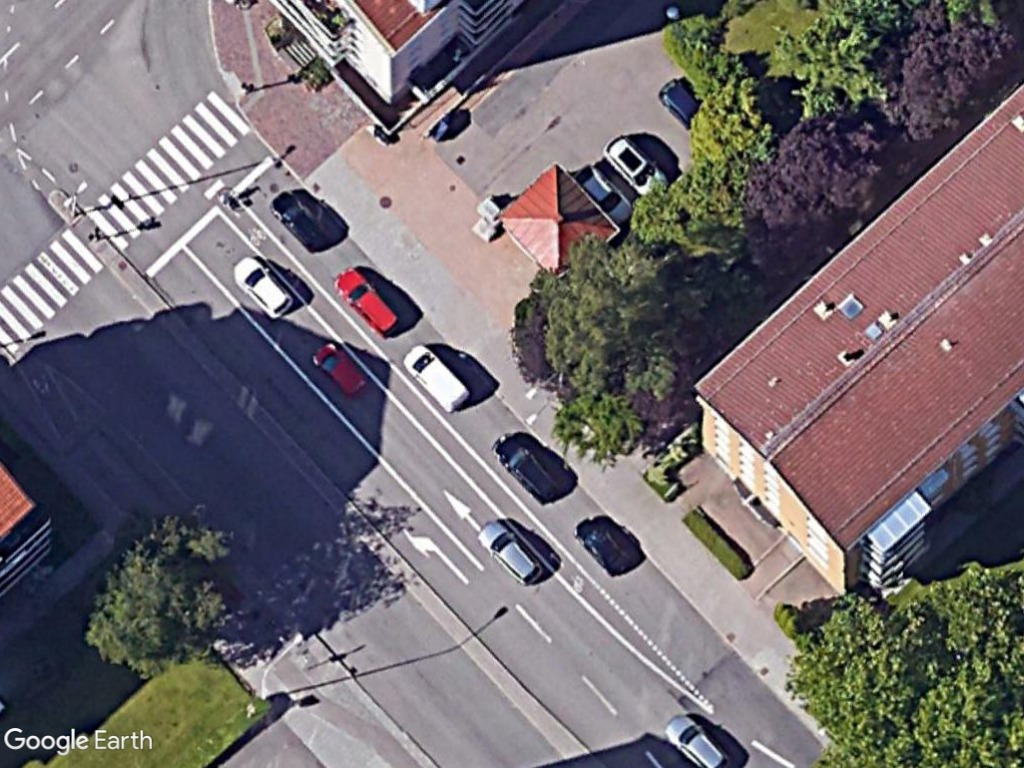car: (490, 429, 565, 509), (333, 263, 408, 341), (472, 515, 550, 588), (265, 189, 336, 257), (230, 252, 298, 323), (572, 512, 638, 581), (309, 336, 374, 401), (663, 711, 733, 768)
van: (396, 341, 473, 416)
